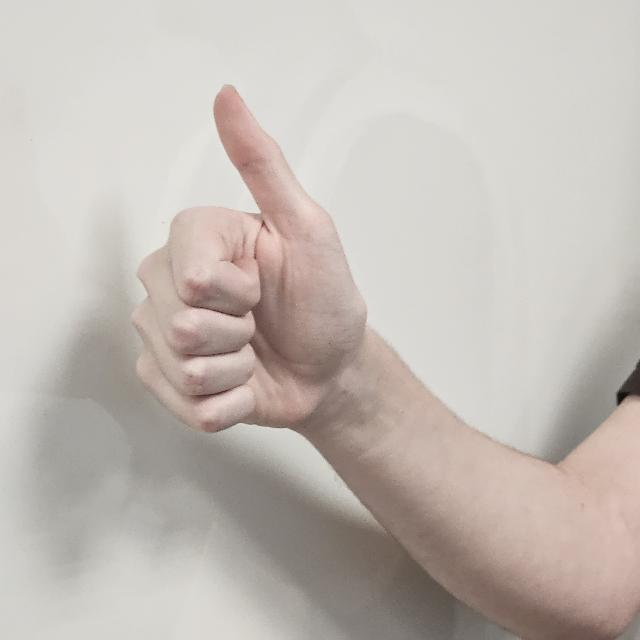Start: (122, 76, 374, 526)
